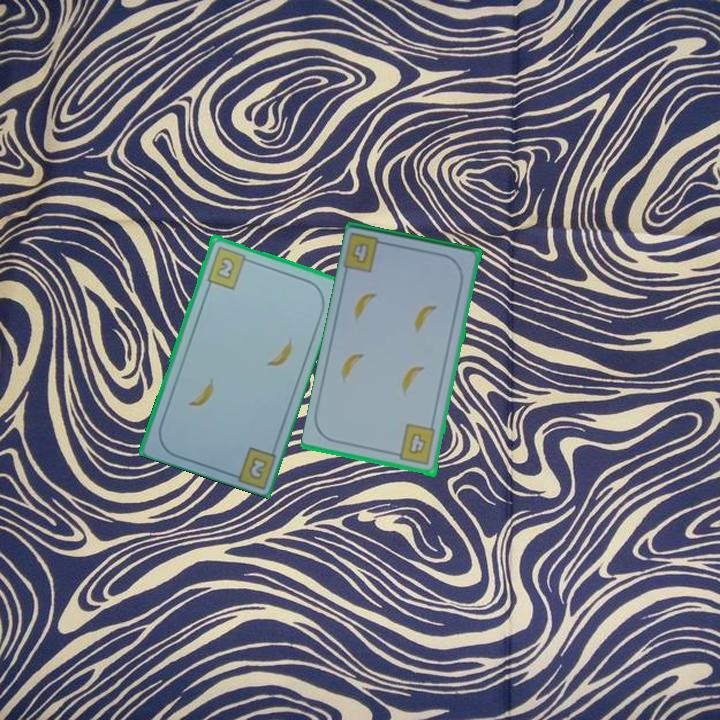2b: (203, 243, 254, 292), (245, 453, 270, 482)
4b: (342, 230, 392, 276), (391, 421, 439, 468)
